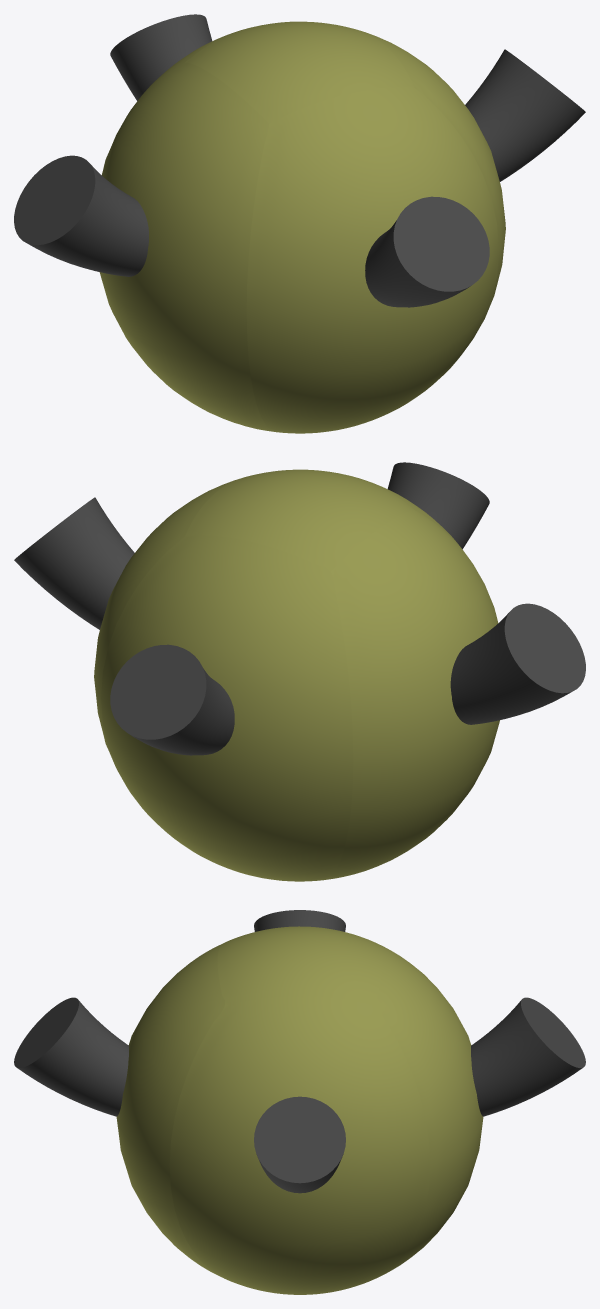
3 renders of one model, top to bottom at view 1: azimuth 30°, elevation 25°; view 2: azimuth 150°, elevation 25°; view 3: azimuth 270°, elevation 25°, orthographic. The views are drawn at different scales.
Parts seen in each view (by area): view 1: Body(Spherical)+Colour(6070106_6070106)+Pattern(Solid)+_8ce0, Arm002, Arm004, Arm001, Arm003; view 2: Body(Spherical)+Colour(6070106_6070106)+Pattern(Solid)+_8ce0, Arm002, Arm003, Arm001, Arm004; view 3: Body(Spherical)+Colour(6070106_6070106)+Pattern(Solid)+_8ce0, Arm003, Arm004, Arm001, Arm002.
Part boxes in pixels (bbox=[...]): Body(Spherical)+Colour(6070106_6070106)+Pattern(Solid)+_8ce0: bbox=[99, 21, 505, 433]; Arm002: bbox=[14, 155, 148, 276]; Arm004: bbox=[365, 196, 489, 307]; Arm001: bbox=[465, 49, 585, 181]; Arm003: bbox=[110, 14, 212, 100]; Body(Spherical)+Colour(6070106_6070106)+Pattern(Solid)+_8ce0: bbox=[94, 469, 499, 881]; Arm002: bbox=[450, 603, 585, 724]; Arm003: bbox=[110, 644, 234, 755]; Arm001: bbox=[14, 497, 134, 629]; Arm004: bbox=[387, 462, 489, 549]; Body(Spherical)+Colour(6070106_6070106)+Pattern(Solid)+_8ce0: bbox=[116, 926, 483, 1294]; Arm003: bbox=[471, 997, 585, 1116]; Arm004: bbox=[14, 997, 128, 1116]; Arm001: bbox=[254, 1096, 345, 1193]; Arm002: bbox=[254, 910, 345, 931].
Bounding box in the file's own units: 1.58 × 1.02 × 1.58.
2 materials, 2 textured.
